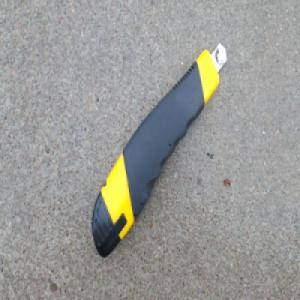Cutter: (91, 41, 229, 259)
